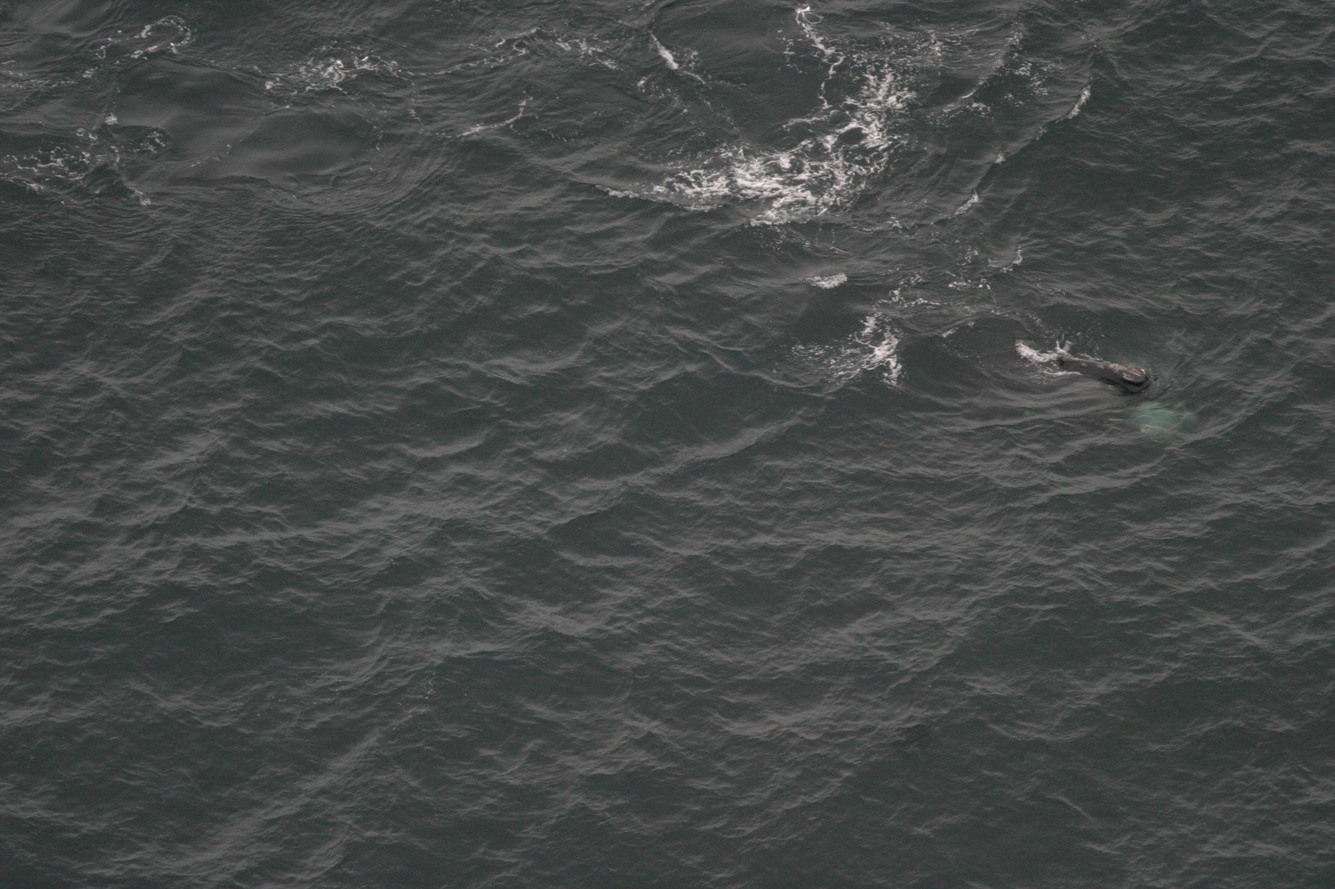whale: (945, 301, 1205, 456)
